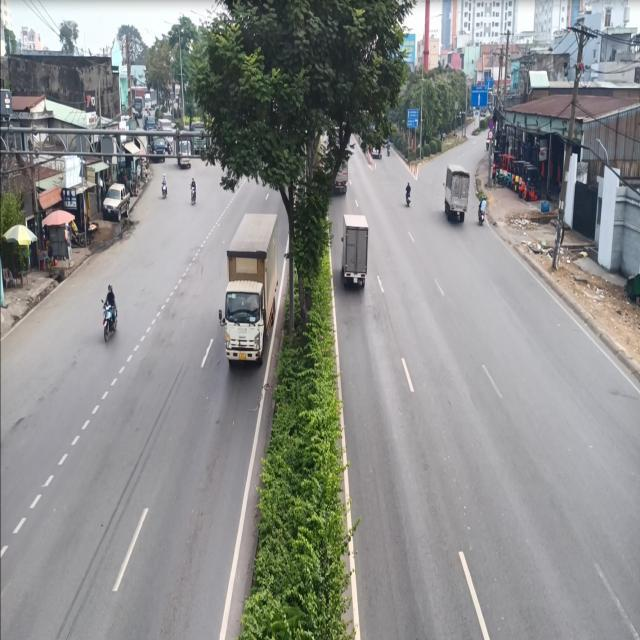car: (101, 181, 133, 221)
motorcycle: (102, 301, 117, 342), (189, 188, 198, 205), (477, 208, 485, 224), (405, 190, 412, 208), (162, 184, 168, 200)
person: (103, 282, 117, 320), (190, 178, 196, 192), (482, 198, 487, 214), (480, 195, 484, 212), (406, 180, 410, 196), (162, 175, 166, 185)
truck: (222, 211, 282, 368), (341, 208, 369, 295), (442, 164, 474, 227), (332, 146, 351, 196), (171, 132, 195, 170), (150, 132, 167, 164)
